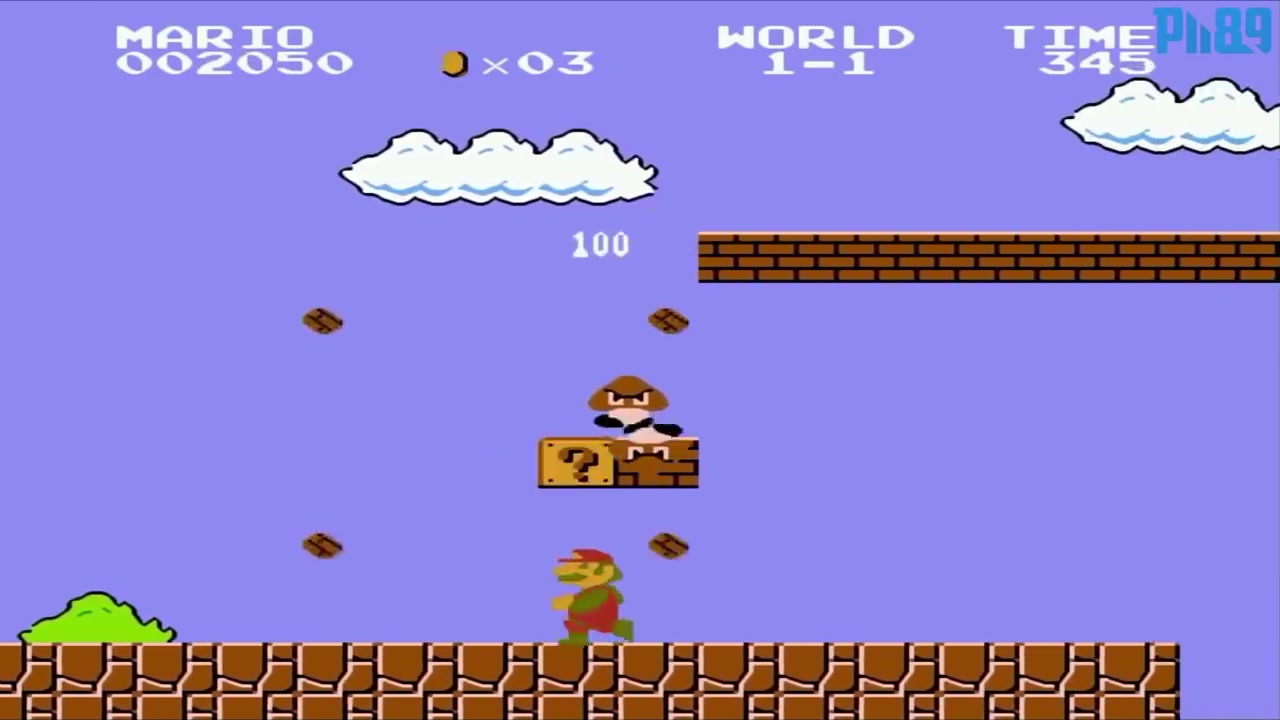mario: (536, 532, 633, 645)
